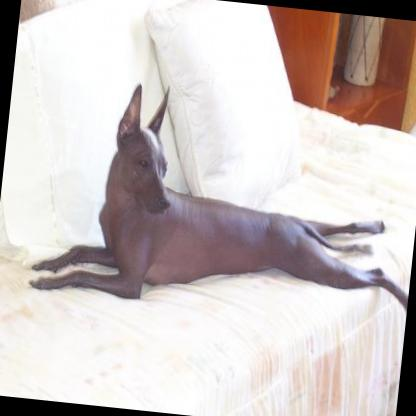Mexican_hairless: (16, 66, 416, 329)
